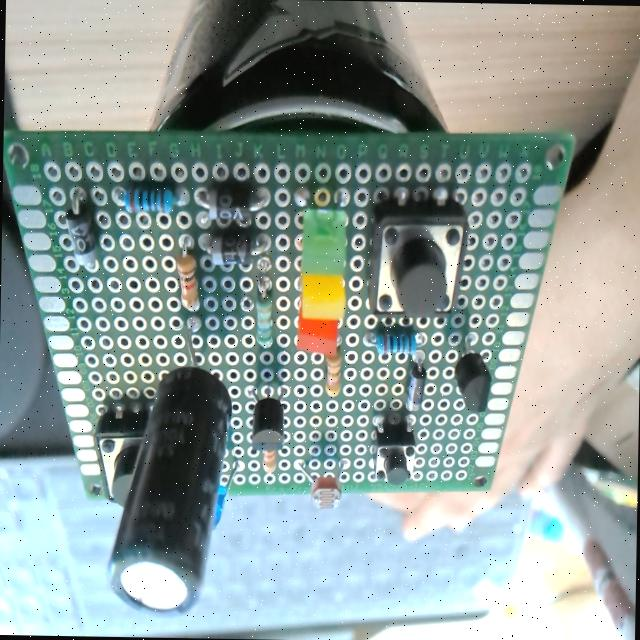Electrolytic capacitor: (109, 366, 232, 617)
cds: (289, 453, 356, 517)
diode: (49, 178, 111, 286), (200, 186, 252, 224), (206, 230, 253, 266), (404, 358, 426, 411)
led: (299, 210, 348, 276), (293, 308, 349, 363), (300, 274, 346, 320)
resistor: (174, 236, 200, 312), (121, 183, 174, 214), (368, 332, 418, 356), (254, 288, 274, 348), (324, 347, 341, 396)
switch: (366, 202, 469, 322), (370, 411, 418, 486)
transistor: (452, 331, 492, 413), (250, 396, 284, 450)
